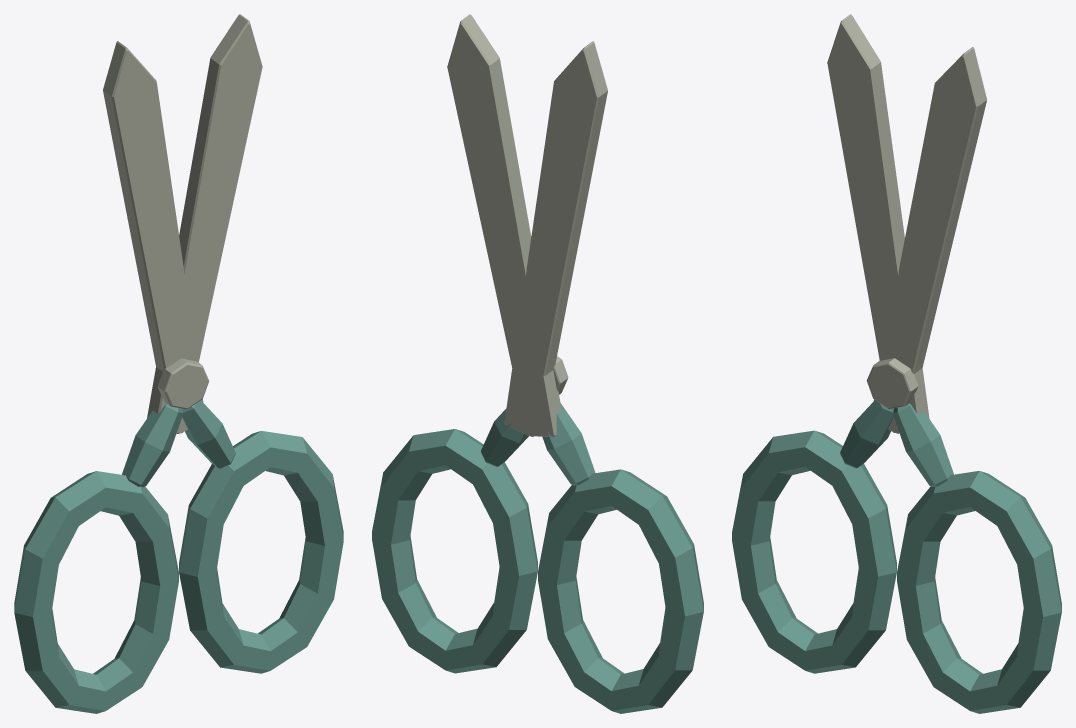
The model's file is scissors.glb.
3 renders of one model, left to right at view 1: azimuth 30°, elevation 25°; view 2: azimuth 150°, elevation 25°; view 3: azimuth 330°, elevation 25°, orthographic.
Visible parts, largest first — view 1: scissors; view 2: scissors; view 3: scissors.
Part boxes in pixels (box(x1,y1,x2,y2)): scissors: box(14, 14, 343, 713); scissors: box(372, 14, 703, 713); scissors: box(732, 14, 1061, 713).
Size of the model in its own units: 0.088 by 0.1685 by 0.00922.
